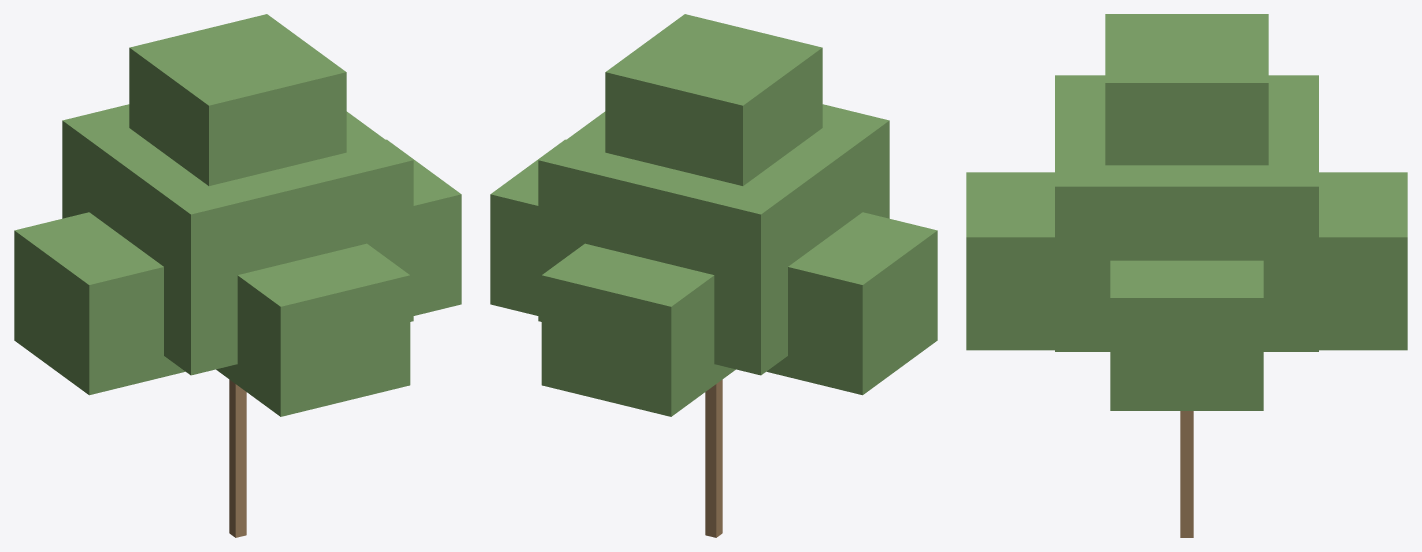
The model's file is Prop_DS_Tree_36.glb.
The picture shows the model from 3 angles, left to right: view 1: azimuth 30°, elevation 25°; view 2: azimuth 150°, elevation 25°; view 3: azimuth 270°, elevation 25°; orthographic projection. The views are drawn at different scales.
Visible parts, largest first — view 1: Cube.001, Cube.006, Cube.005, Cube.003, Cube.002, Cube; view 2: Cube.001, Cube.006, Cube.004, Cube.003, Cube.002, Cube; view 3: Cube.001, Cube.006, Cube.002, Cube.004, Cube.005, Cube.
Boxes of the visible parts, x1=… form: Cube.001: x1=62, y1=104, x2=413, y2=375; Cube.006: x1=129, y1=14, x2=346, y2=185; Cube.005: x1=216, y1=243, x2=410, y2=416; Cube.003: x1=14, y1=212, x2=185, y2=395; Cube.002: x1=386, y1=139, x2=461, y2=315; Cube: x1=229, y1=379, x2=246, y2=537; Cube.001: x1=538, y1=104, x2=889, y2=375; Cube.006: x1=605, y1=14, x2=822, y2=185; Cube.004: x1=541, y1=243, x2=735, y2=416; Cube.003: x1=766, y1=212, x2=937, y2=395; Cube.002: x1=490, y1=139, x2=565, y2=315; Cube: x1=705, y1=379, x2=722, y2=537; Cube.001: x1=1055, y1=75, x2=1318, y2=351; Cube.006: x1=1105, y1=14, x2=1268, y2=165; Cube.002: x1=1110, y1=260, x2=1263, y2=410; Cube.004: x1=1319, y1=172, x2=1407, y2=350; Cube.005: x1=966, y1=172, x2=1054, y2=350; Cube: x1=1180, y1=411, x2=1193, y2=537.
Bounding box in the file's own units: 10.12 × 12.32 × 10.12.
